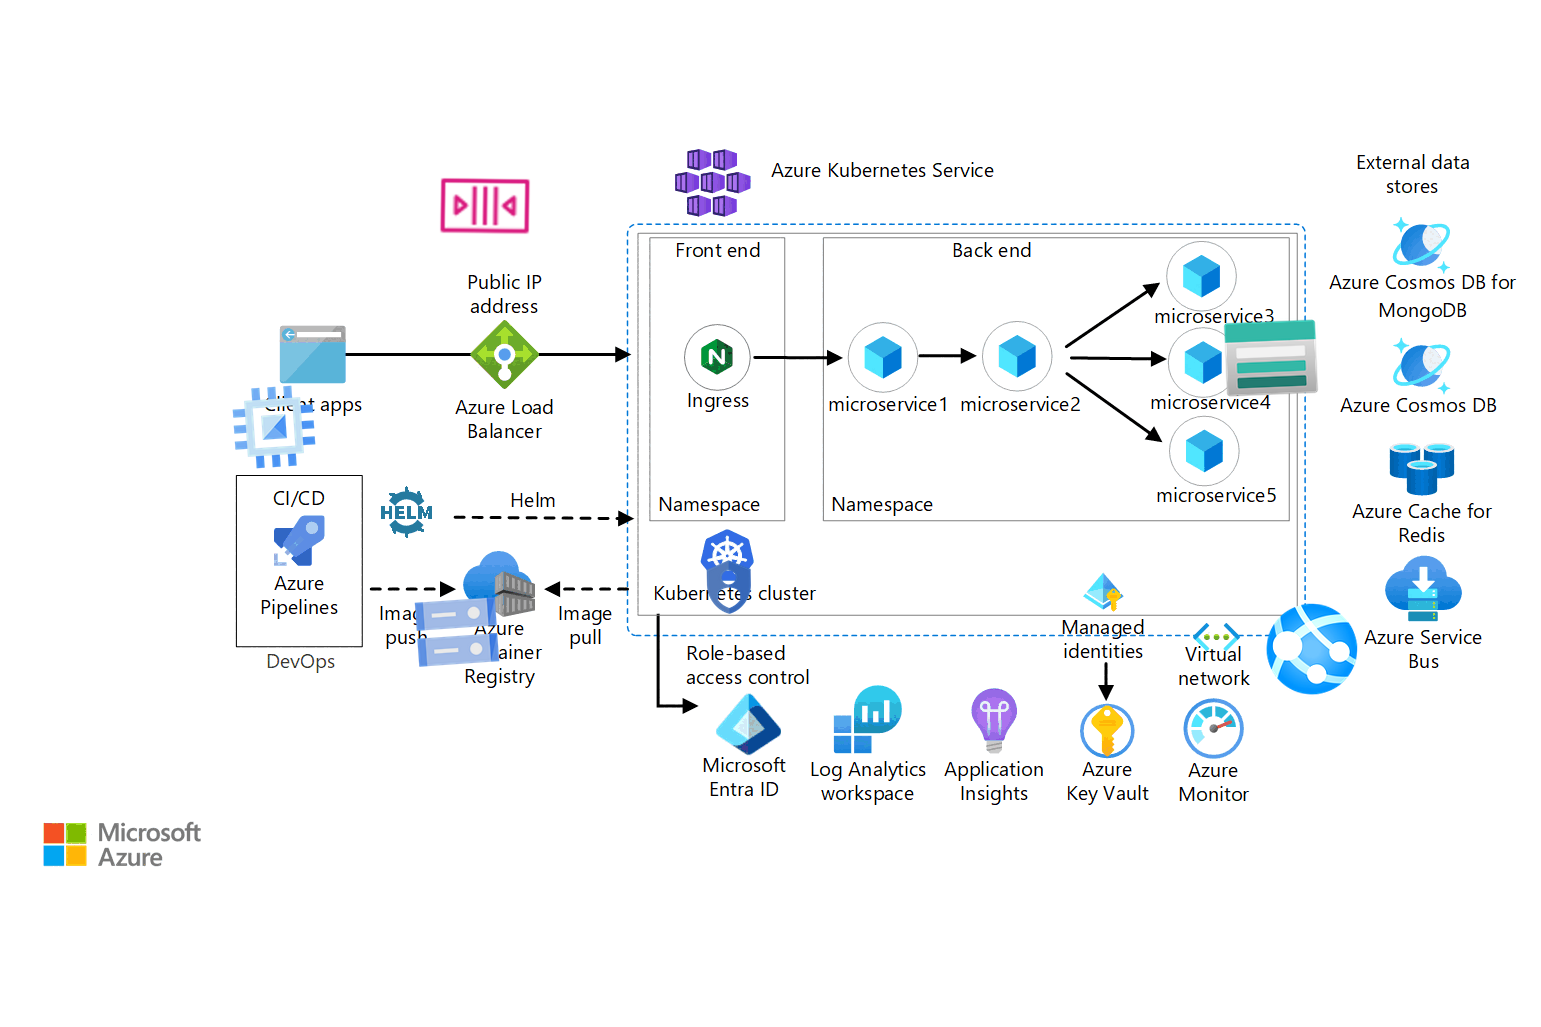aws_simple_queue_service_queue: (437, 156, 534, 254)
azure_app_services: (1261, 598, 1363, 700)
azure_storage_accounts: (1221, 308, 1321, 408)
gcp_cloud_storage: (404, 580, 509, 684)
gcp_compute_engine: (222, 375, 327, 479)
gcp_identity_and_access_management: (695, 554, 762, 620)
